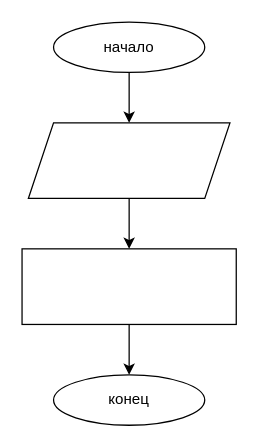
This 258x447 diagram has some shape labels left out. The shapes that lost their labels are listed below. From the top down, each one's centre as x and y in pixels, then its label:
point 128,160: x = номер столбца, y = номер строки, color = цвет
point 128,286: Canvas canvas. currentColor = color
